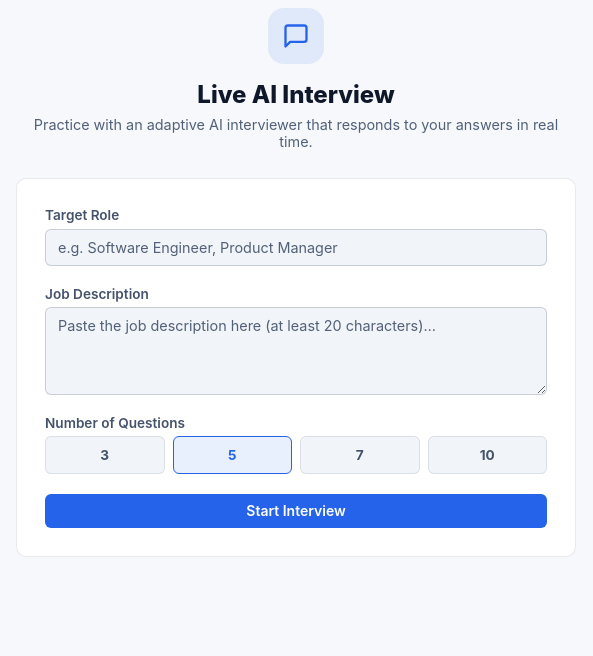
Test: LiveInterviewPage › shows validation error if job description is too short
Type "Engineer" into the field labelled "Target Role". click: (296, 247)
box: [45,229,547,266]
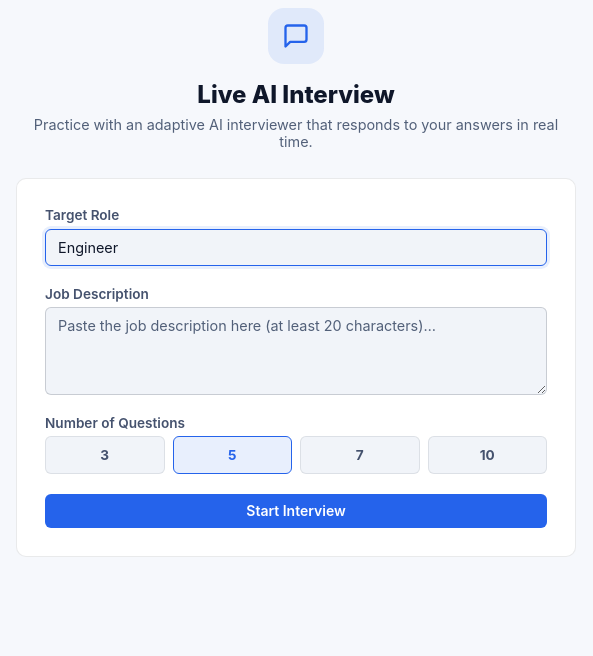
Type "short" into the text box labelled "Job Description". click: (296, 351)
box: [45,307,547,395]
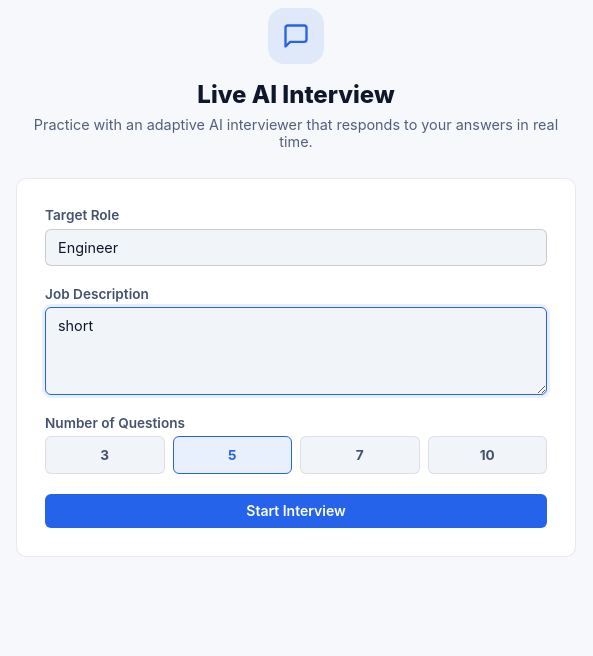
Click the button "Start Interview". click: click(296, 511)
box: [45,494,547,528]
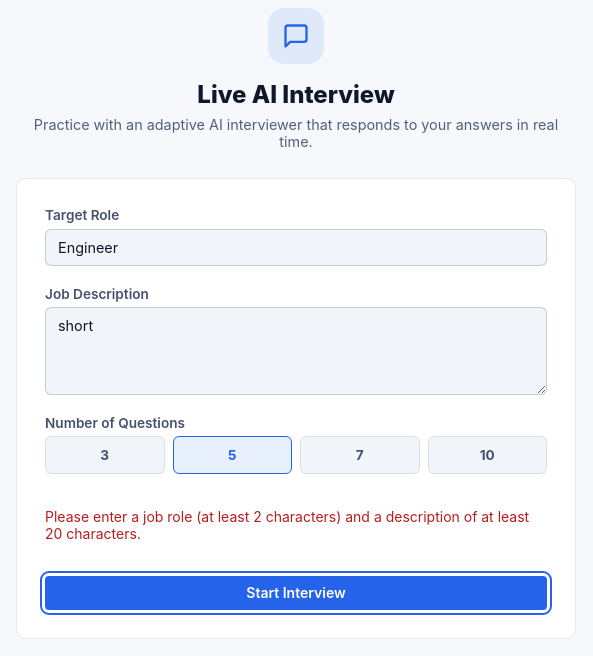
Result: the text "at least 20 characters" is shown at [45,508,529,542]
